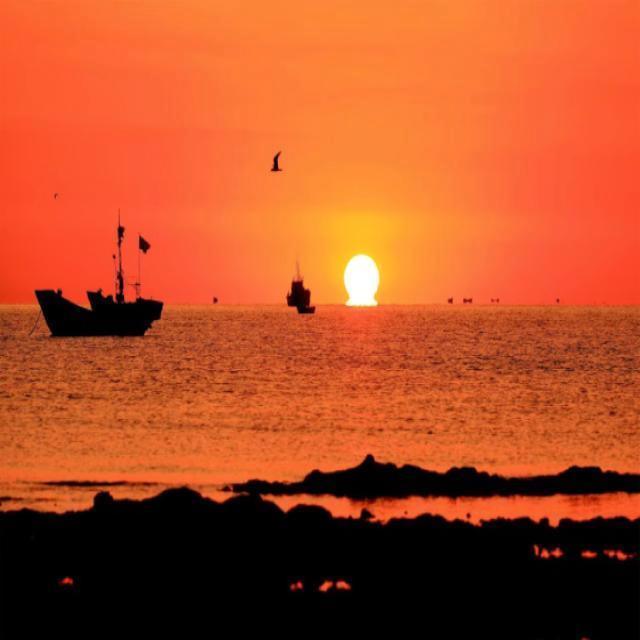bird: (270, 150, 286, 174)
